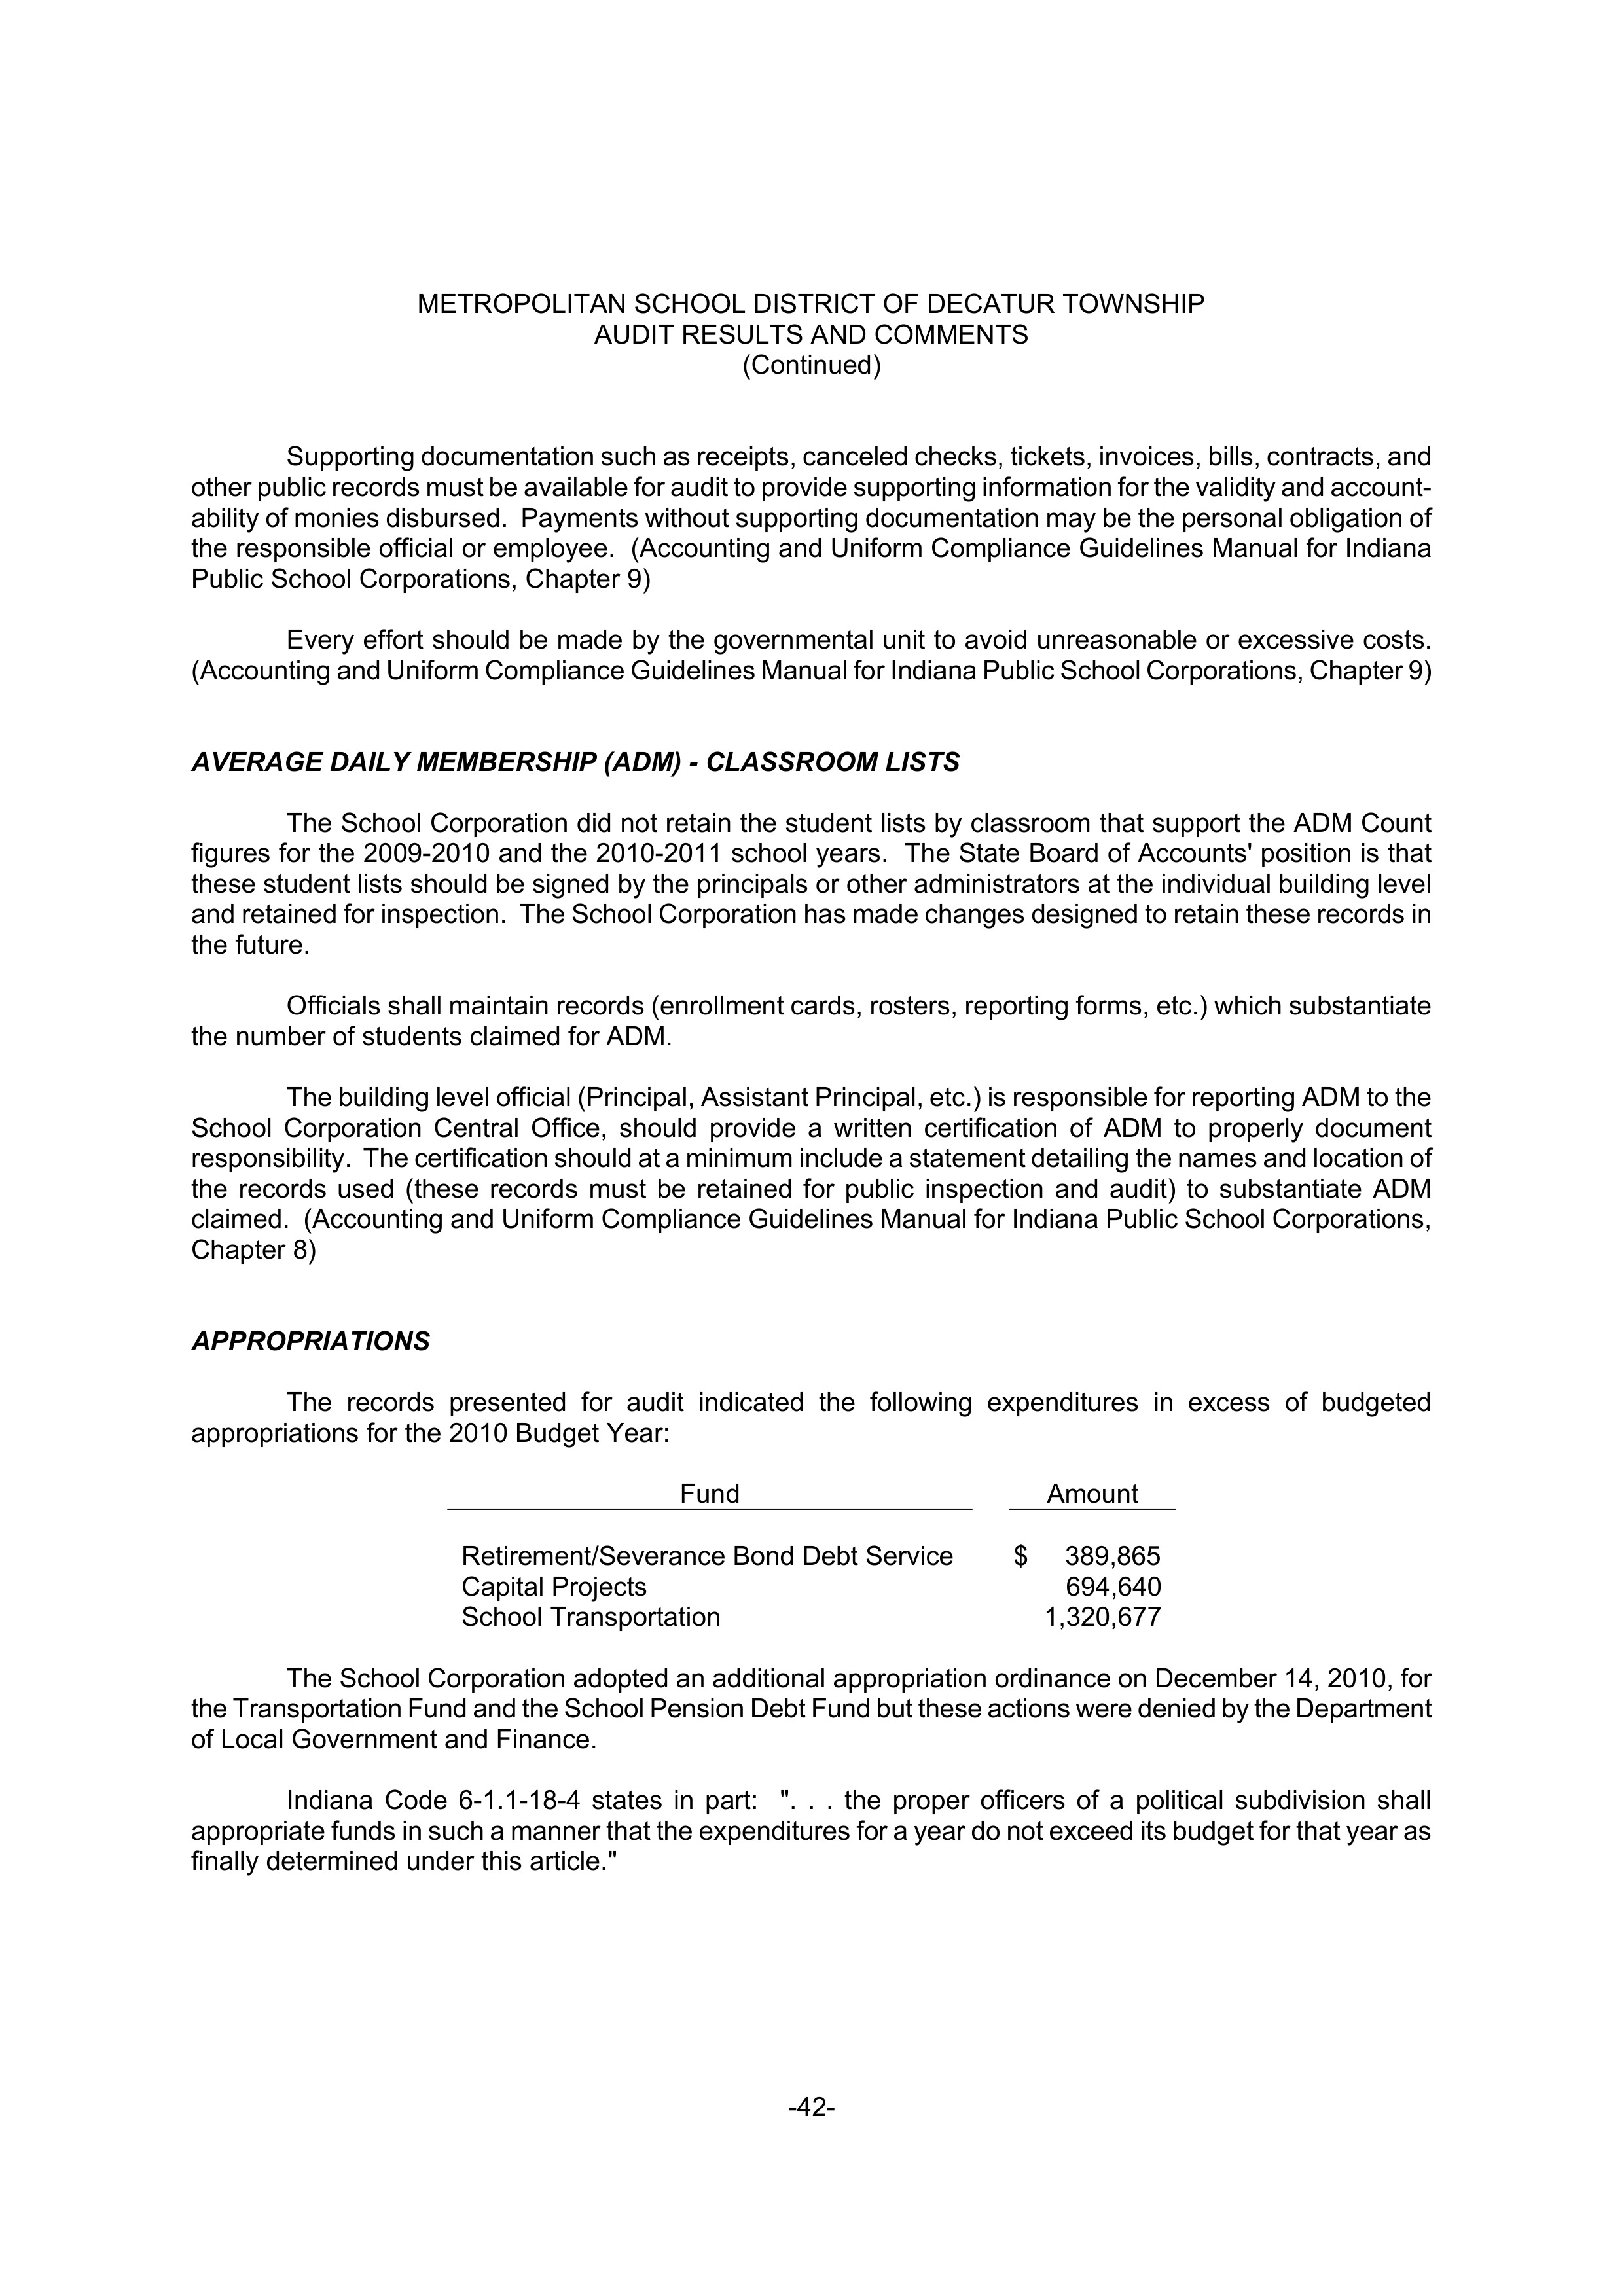table: (462, 1479, 1162, 1630)
